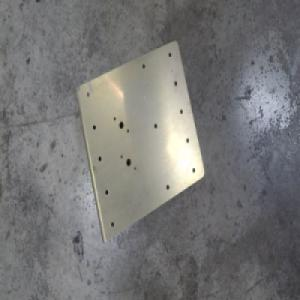MetalSheet: (74, 36, 206, 244)
